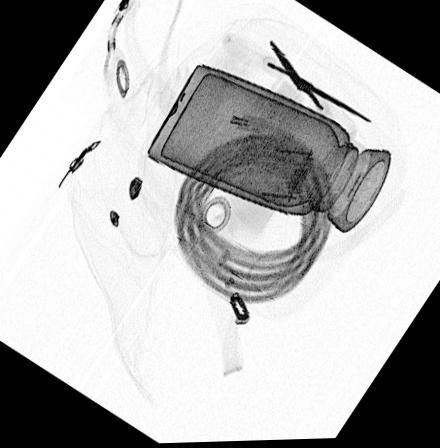Scissors: (261, 37, 370, 129)
